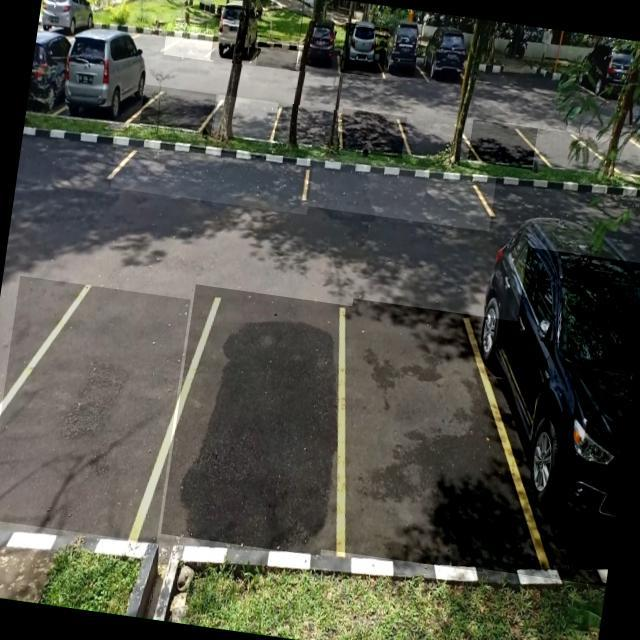empty: (318, 298, 518, 572), (161, 284, 355, 556), (0, 276, 190, 544), (301, 151, 497, 232), (110, 138, 314, 215), (140, 85, 217, 136), (337, 108, 408, 159), (402, 115, 472, 165), (468, 120, 538, 170), (274, 102, 345, 151), (213, 94, 282, 144), (164, 24, 218, 62), (253, 32, 303, 72)
occupied: (483, 247, 640, 586), (56, 40, 150, 127), (211, 4, 264, 66), (296, 19, 347, 76), (338, 23, 389, 79)
